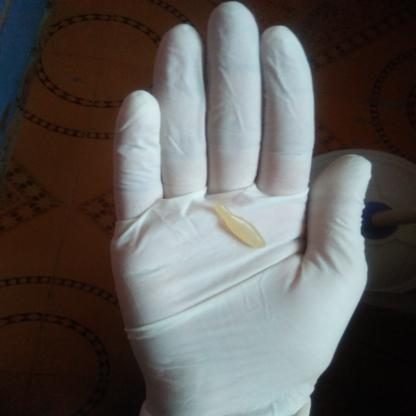gloved_hand: (97, 0, 382, 414)
